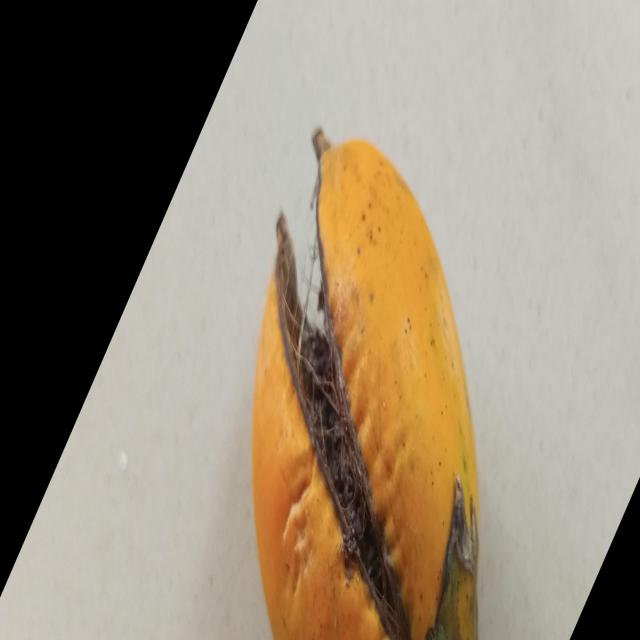damaged: (252, 127, 479, 640)
